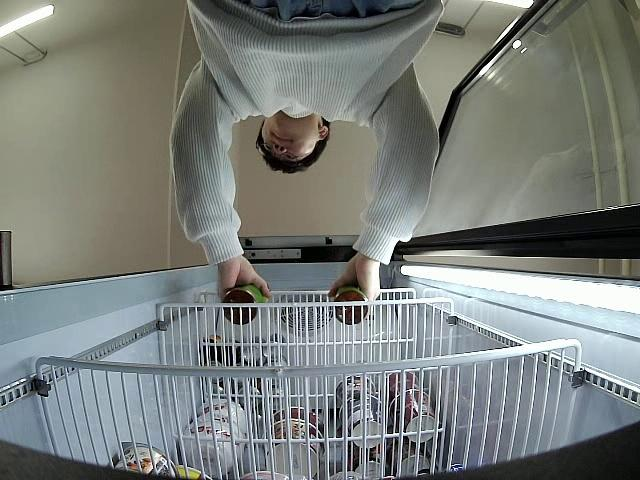00_hand: (327, 257, 380, 321), (216, 260, 273, 299)
19_17cha: (223, 285, 265, 325), (333, 286, 369, 326)
